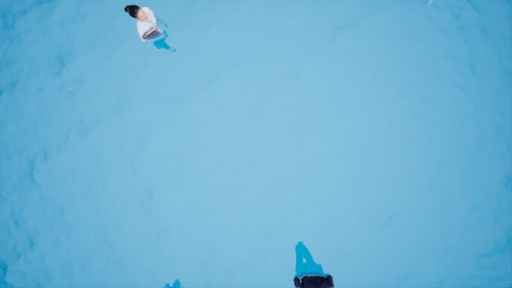person: (118, 3, 181, 54), (286, 237, 342, 288)
